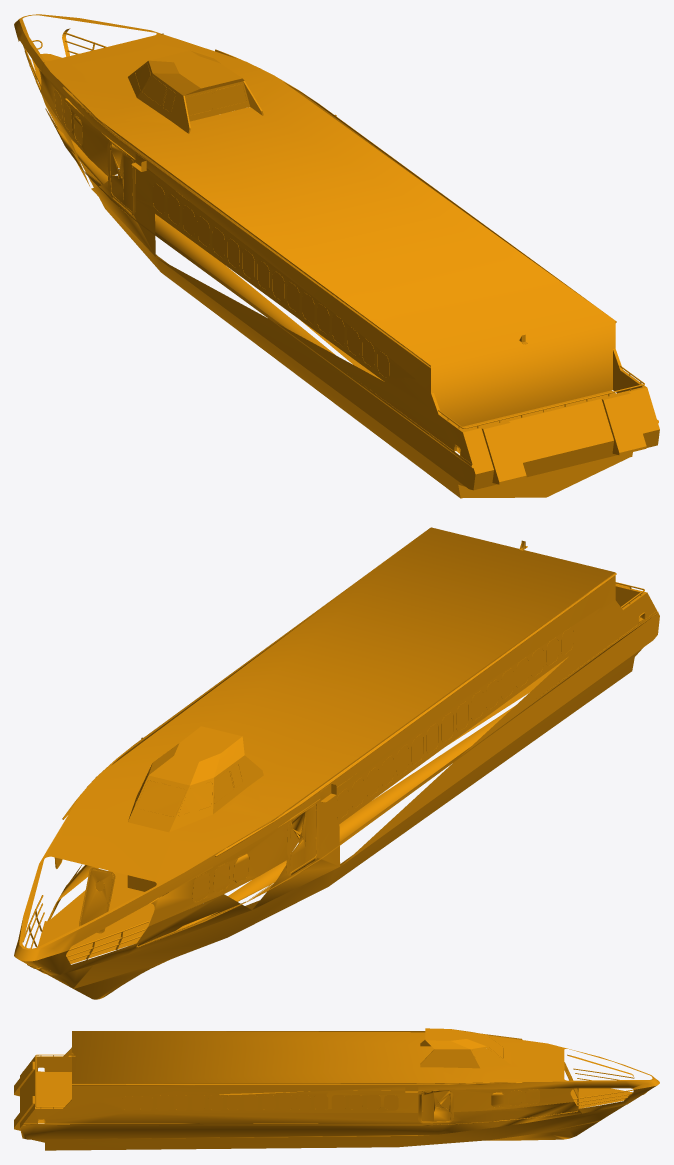
File: 03-Highspeed-Ferry-opti.glb
3 views of the same model, one above another, from view 1: azimuth 30°, elevation 25°; view 2: azimuth 150°, elevation 25°; view 3: azimuth 270°, elevation 25° (orthographic). The views are drawn at different scales.
Parts seen in each view (by area): view 1: NONE; view 2: NONE; view 3: NONE.
Part boxes in pixels (bbox=[...]): NONE: bbox=[14, 14, 659, 498]; NONE: bbox=[14, 527, 659, 999]; NONE: bbox=[14, 1028, 659, 1150].
Bounding box in the file's own units: 7.16 × 6.35 × 35.
